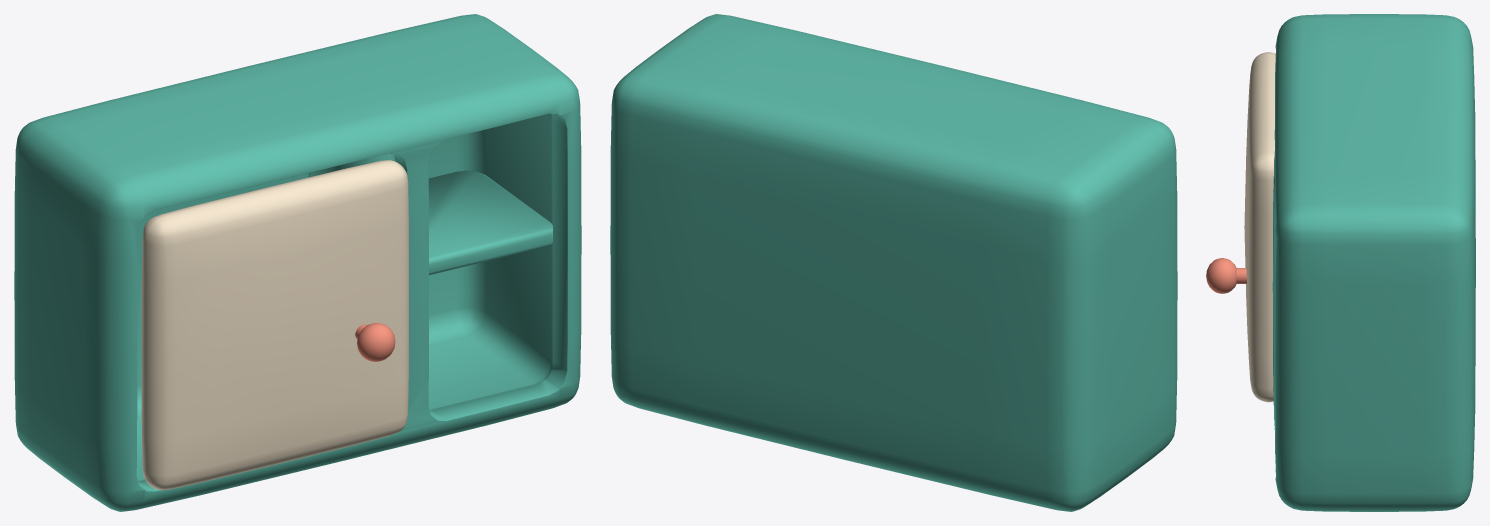
Rendered from upper_c.glb.
The picture shows the model from 3 angles, left to right: view 1: azimuth 30°, elevation 25°; view 2: azimuth 150°, elevation 25°; view 3: azimuth 270°, elevation 25°; orthographic projection. The views are drawn at different scales.
Parts seen in each view (by area): view 1: body, door; view 2: body; view 3: body, door.
Boxes of the visible parts, <box> form: body: <box>14,14,581,511</box>; door: <box>141,160,408,490</box>; body: <box>610,14,1177,511</box>; body: <box>1272,14,1475,511</box>; door: <box>1206,52,1275,402</box>.
Size of the model in its own units: 0.9 by 0.6 by 0.478.
